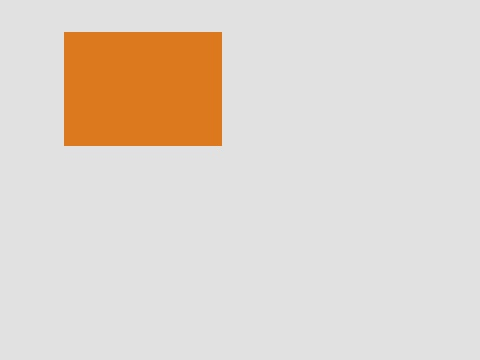square: (64, 32, 221, 145)
